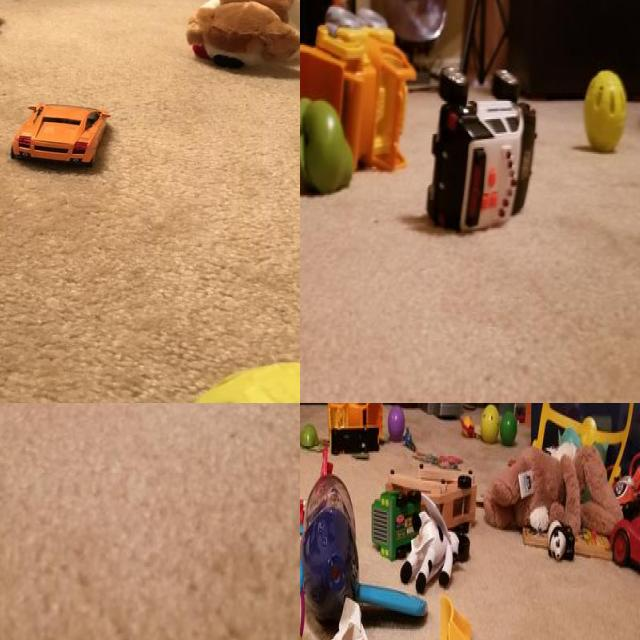toy: (300, 0, 408, 179), (434, 59, 536, 247), (311, 459, 364, 620), (369, 468, 481, 538), (191, 0, 300, 67), (8, 102, 114, 166), (401, 492, 468, 592), (300, 87, 355, 194), (179, 360, 300, 403), (357, 575, 429, 625), (585, 73, 625, 162), (325, 403, 388, 455), (609, 500, 640, 590), (437, 593, 493, 640), (412, 441, 466, 476), (549, 516, 578, 564), (480, 403, 500, 451), (500, 404, 520, 444), (388, 407, 408, 441), (459, 408, 476, 438), (300, 423, 321, 446)
